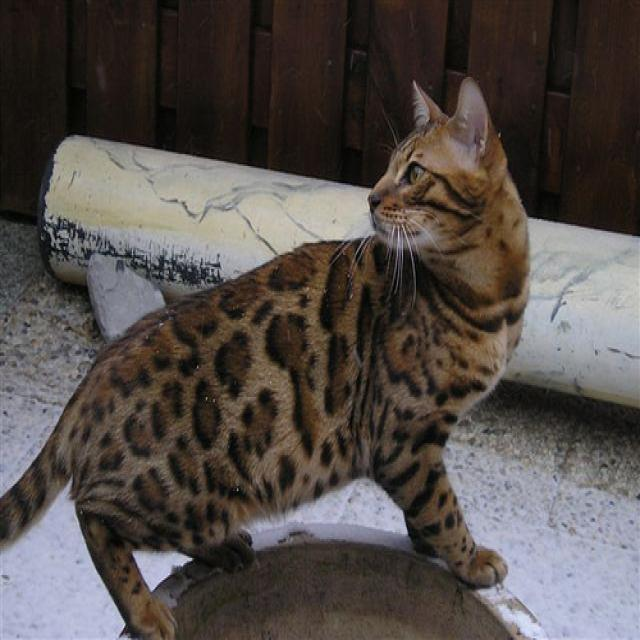Bengal: (367, 69, 510, 261)
